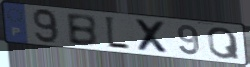9: (32, 8, 62, 46), (176, 24, 201, 56)
B: (64, 13, 100, 48)
L: (103, 15, 131, 52)
Q: (206, 27, 242, 61)
X: (133, 17, 173, 56)
